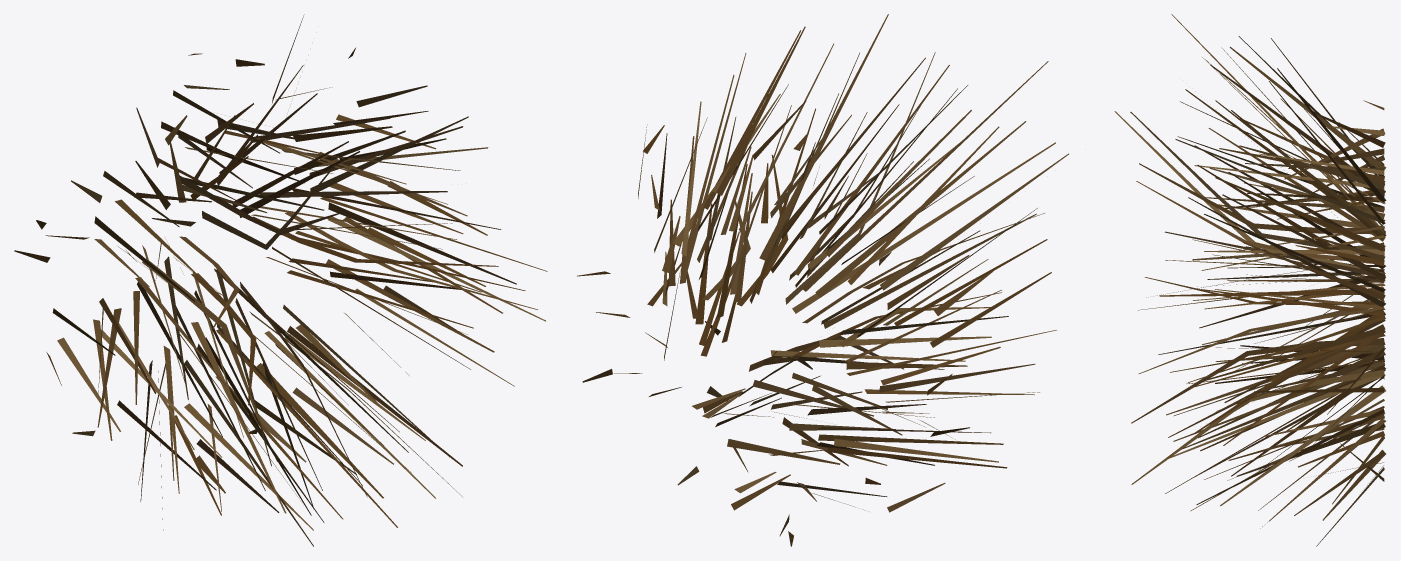
File: Grass_Q.fbx
3 views of the same model, side by side, from view 1: azimuth 30°, elevation 25°; view 2: azimuth 150°, elevation 25°; view 3: azimuth 270°, elevation 25° (orthographic). The views are drawn at different scales.
Parts seen in each view (by area): view 1: OUT_Grass_dead_v3; view 2: OUT_Grass_dead_v3; view 3: OUT_Grass_dead_v3.
Part boxes in pixels (box(x1,y1,x2,y2)): OUT_Grass_dead_v3: box(14, 14, 547, 546); OUT_Grass_dead_v3: box(577, 14, 1068, 546); OUT_Grass_dead_v3: box(1114, 14, 1386, 546).
Bounding box in the file's own units: 0.3177 × 0.3231 × 0.1761.
